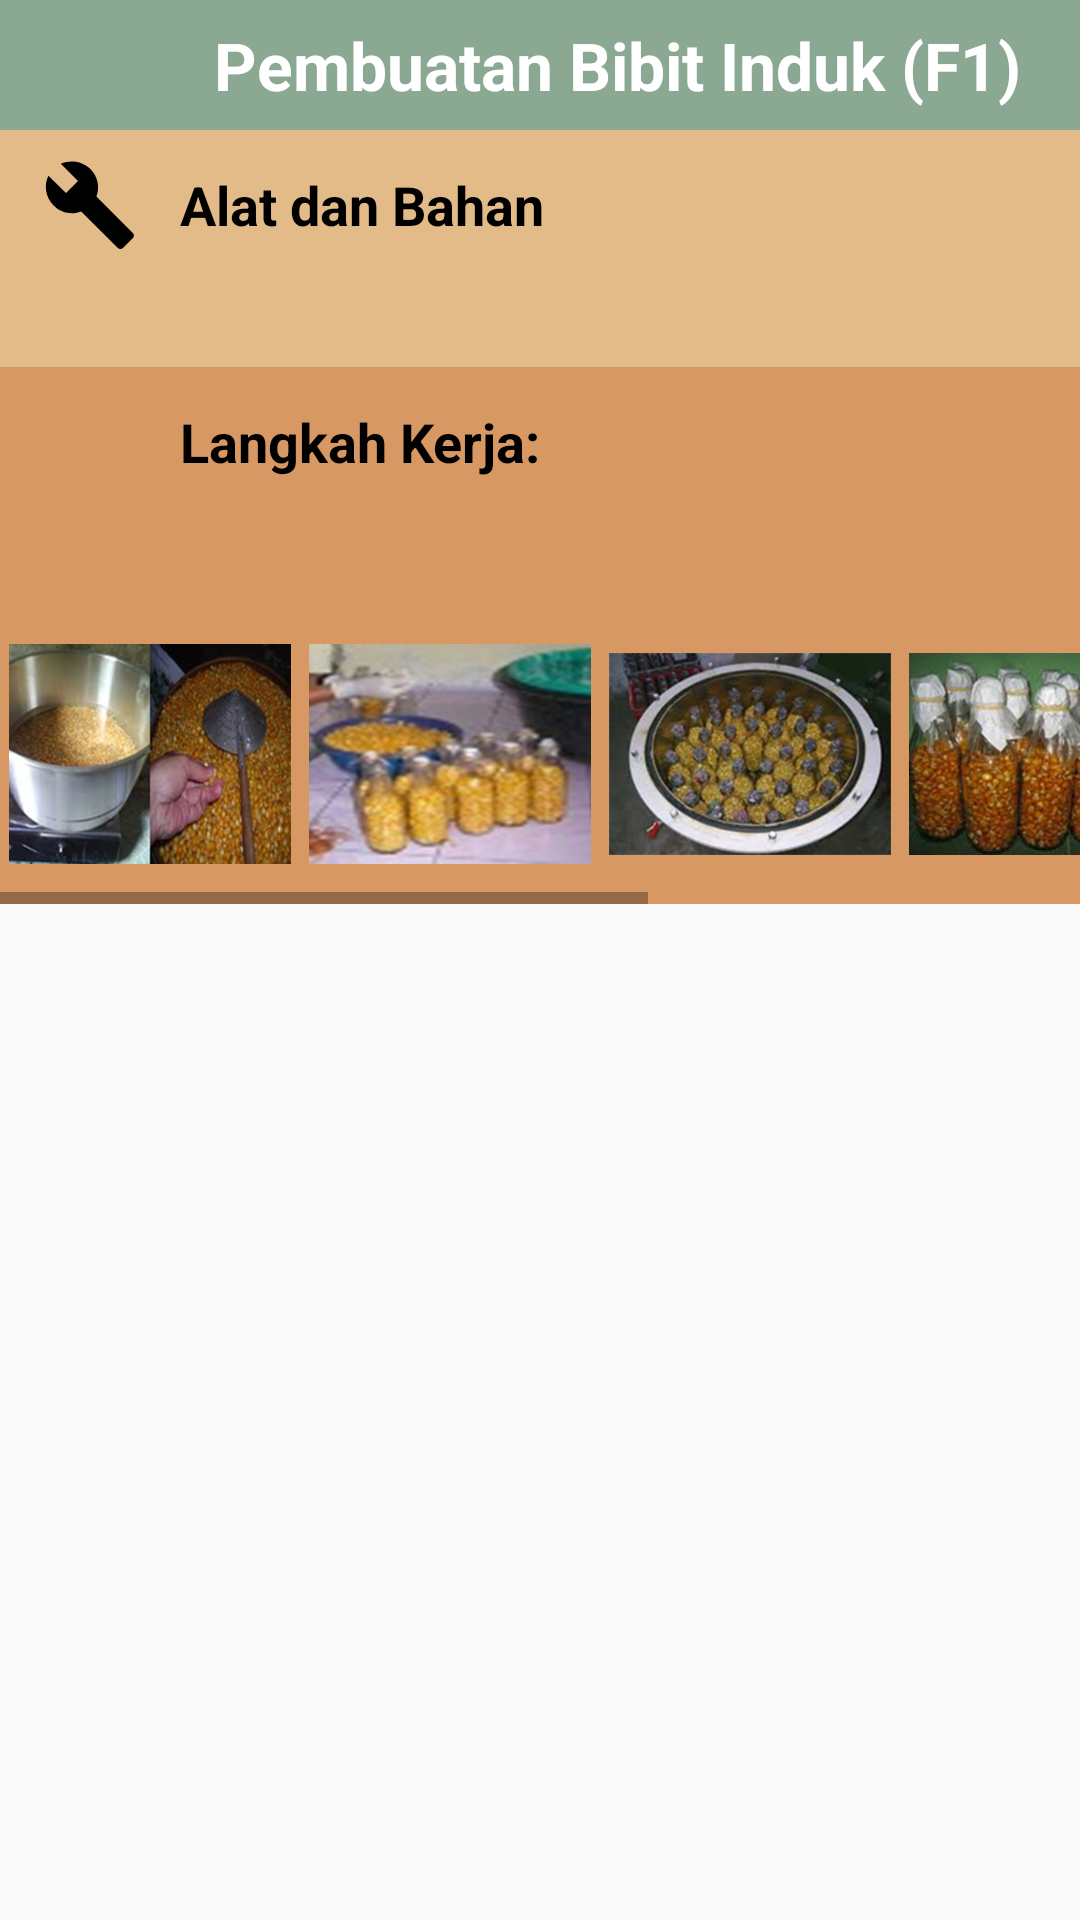

Icons on this 1080px x 1920px Android screen, each with the point to tap as point (x, y):
build: point (89, 205)
